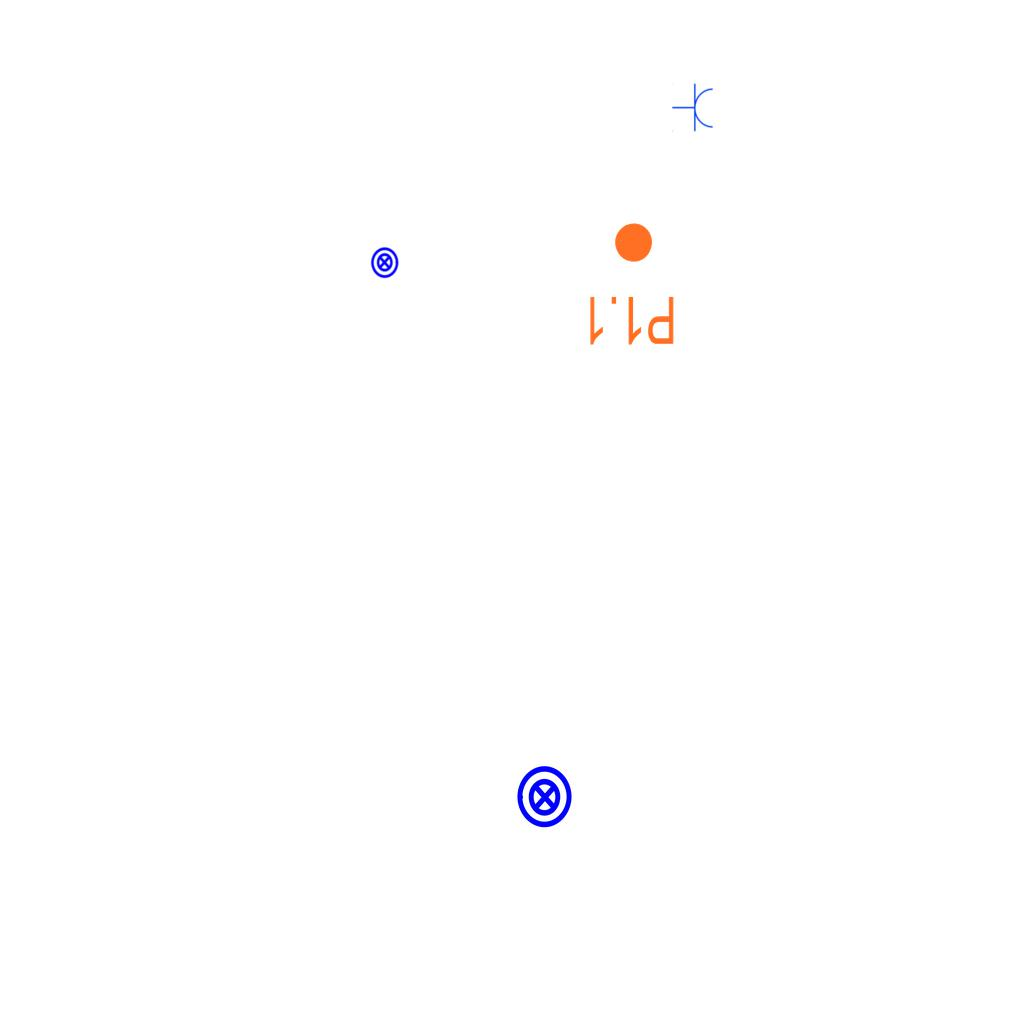Downlight_LED_Einbauleuchten_Flur: (584, 220, 677, 348)
Schukosteckdose_einfach: (672, 83, 715, 133)
Taster_beleuchtet: (512, 764, 578, 830), (368, 246, 401, 279)
